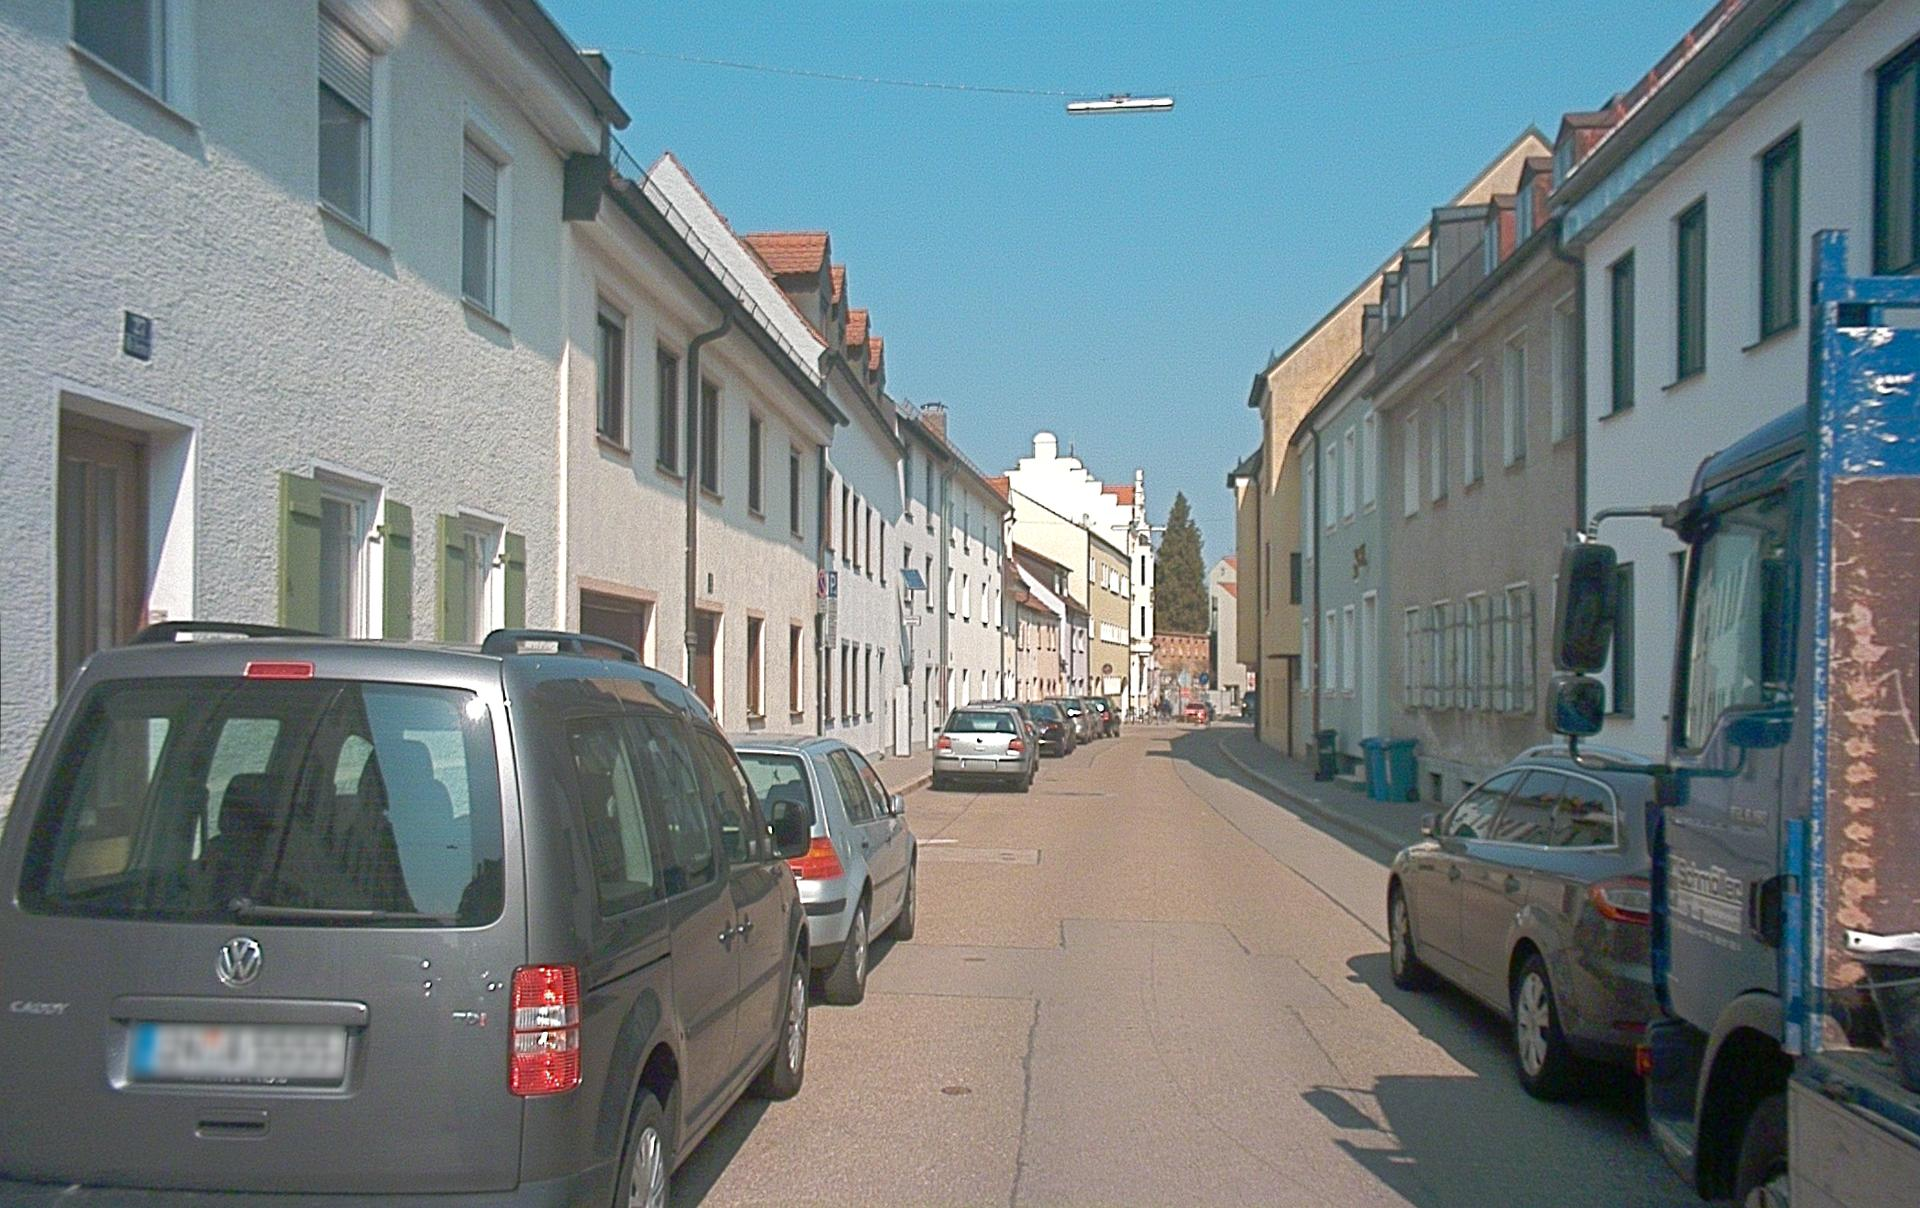car: (0, 619, 813, 1207), (1386, 742, 1664, 1099), (725, 733, 918, 1006), (931, 706, 1038, 792), (1020, 703, 1077, 757), (1045, 697, 1098, 743), (1184, 701, 1212, 726)
